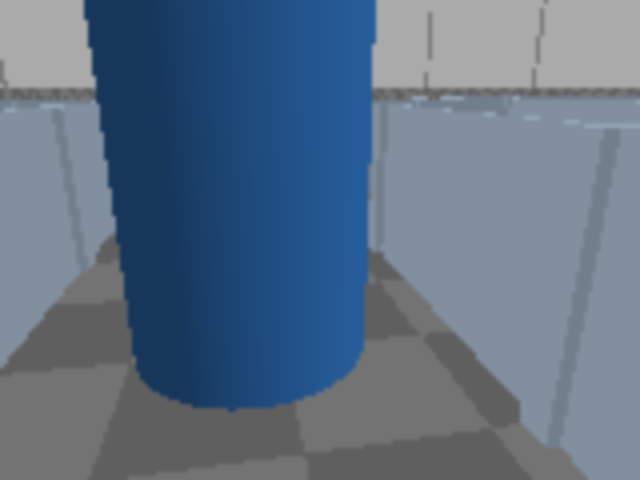person: (0, 0, 420, 408)
